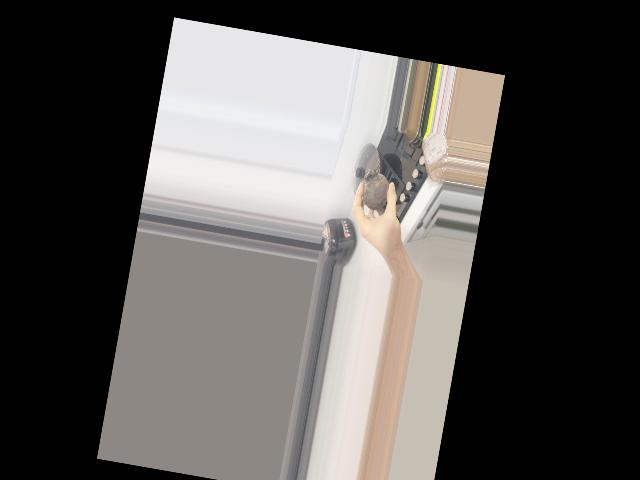beet: (359, 167, 391, 214)
